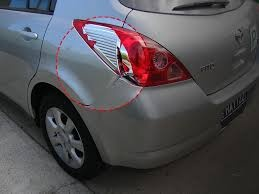Broken-glass: (75, 18, 150, 88)
